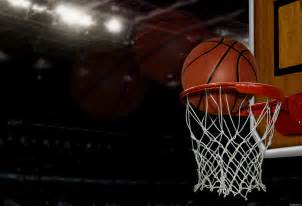basketball: (181, 36, 261, 118)
